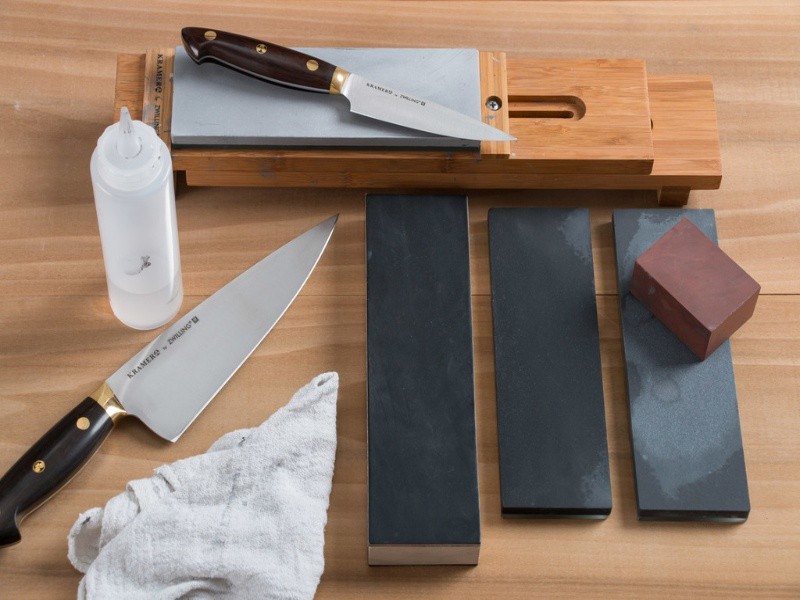knife: (1, 210, 341, 545), (176, 21, 523, 148)
